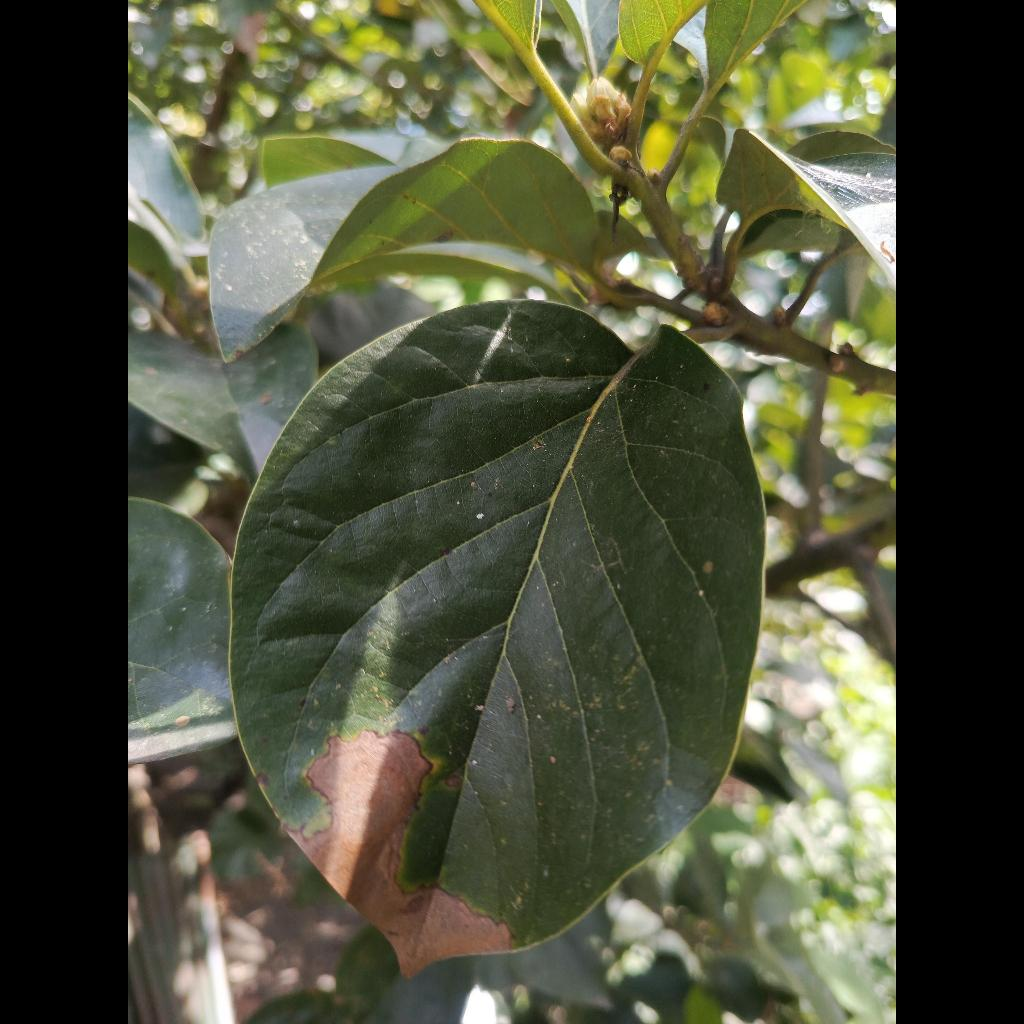antracnosis_hoja: (230, 302, 765, 973)
